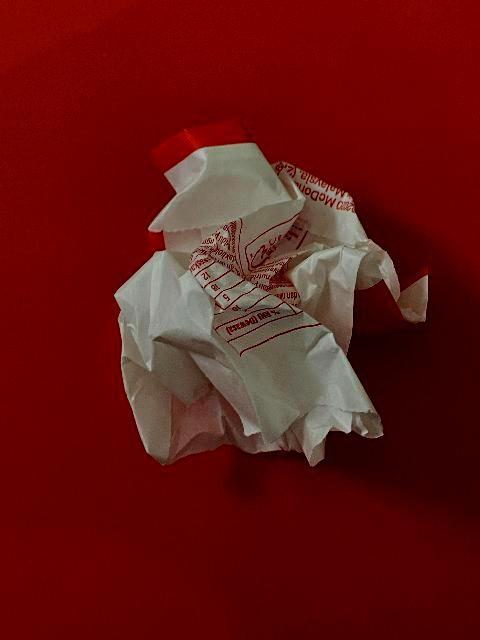paperbag: (112, 112, 432, 470)
